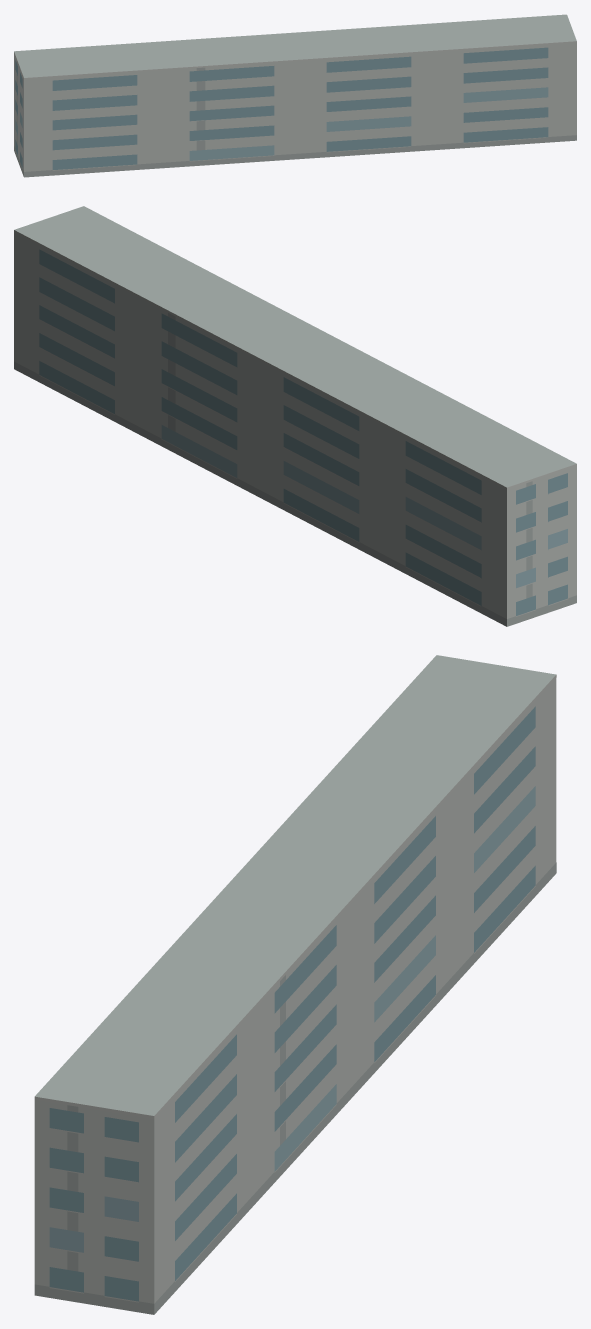
Rendered from residential-d4a48858-2c89-4dc3-b085-0de80df47f4a.glb.
3 renders of one model, top to bottom at view 1: azimuth 30°, elevation 25°; view 2: azimuth 150°, elevation 25°; view 3: azimuth 270°, elevation 25°, orthographic. The views are drawn at different scales.
Visible parts, largest first — view 1: residential-d4a48858-2c89-4dc3-b085-0de80df47f4a.tmp; view 2: residential-d4a48858-2c89-4dc3-b085-0de80df47f4a.tmp; view 3: residential-d4a48858-2c89-4dc3-b085-0de80df47f4a.tmp.
Boxes of the visible parts, box(x1,y1,x2,y2) form: residential-d4a48858-2c89-4dc3-b085-0de80df47f4a.tmp: box(14, 14, 576, 177); residential-d4a48858-2c89-4dc3-b085-0de80df47f4a.tmp: box(14, 206, 576, 626); residential-d4a48858-2c89-4dc3-b085-0de80df47f4a.tmp: box(34, 655, 556, 1314).
Bounding box in the file's own units: 75.83 × 15.25 × 36.28.
